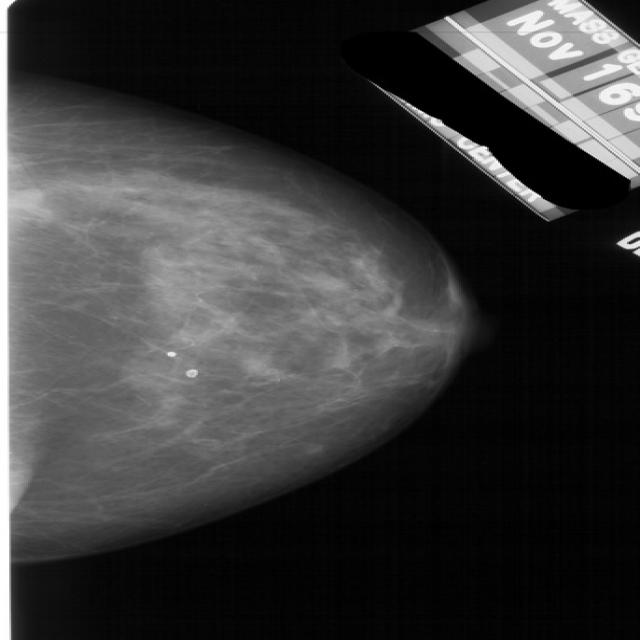tumour: (7, 187, 43, 210)
